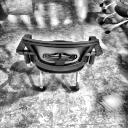chair_success: (12, 33, 106, 93)
